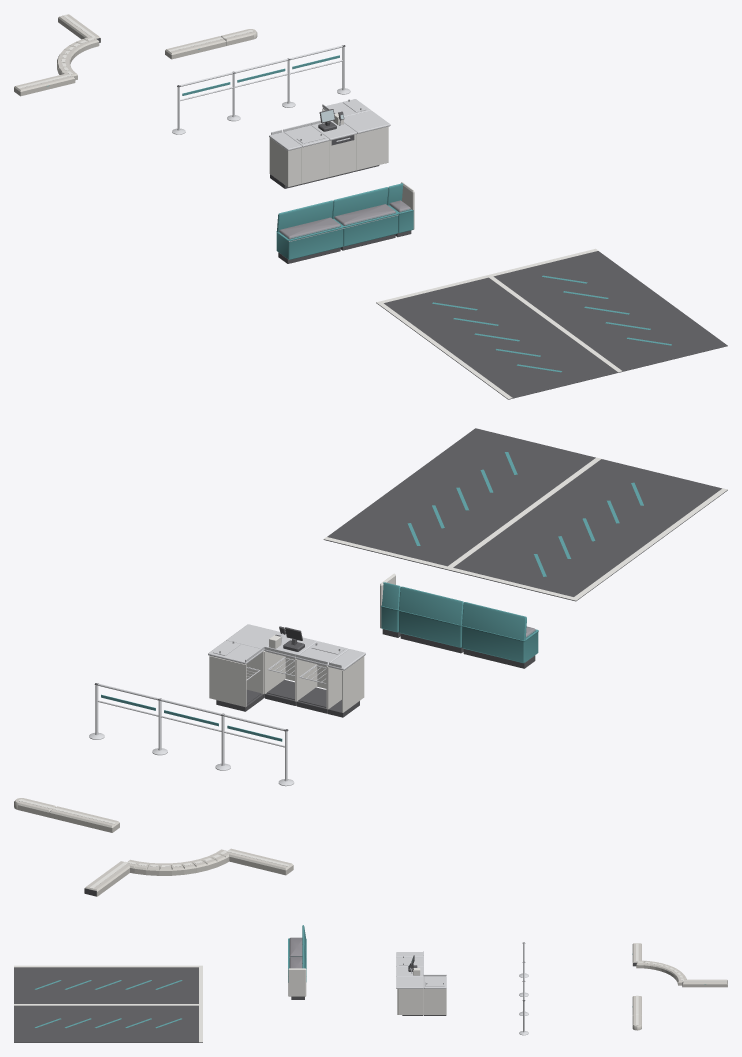
File: fast-food-and-drive-thru-qsr-connector-cases-df04b984__16230.glb
The picture shows the model from 3 angles, top to bottom: view 1: azimuth 30°, elevation 25°; view 2: azimuth 150°, elevation 25°; view 3: azimuth 270°, elevation 25°; orthographic projection. The views are drawn at different scales.
Visible parts, largest first — view 1: 016-car-park-bay-marking/0, 017-car-park-bay-marking/0, 013-moulded-bench-run/1, 014-moulded-bench-run/1, 003-counter-corner/1, 000-counter-end-cap/1, 001-counter-module-600/1, 017-car-park-bay-marking/1, 016-car-park-bay-marking/1, 002-counter-till-position/1, 003-counter-corner/3, 013-moulded-bench-run/2 (+7 smaller); view 2: 016-car-park-bay-marking/0, 017-car-park-bay-marking/0, 013-moulded-bench-run/1, 014-moulded-bench-run/1, 004-counter-module-600/1, 000-counter-end-cap/1, 017-car-park-bay-marking/1, 016-car-park-bay-marking/1, 006-lane-kerb-curve/0, 002-counter-till-position/1, 002-counter-till-position/0, 001-counter-module-600/1 (+7 smaller); view 3: 017-car-park-bay-marking/0, 016-car-park-bay-marking/0, 016-car-park-bay-marking/1, 003-counter-corner/1, 004-counter-module-600/1, 015-moulded-bench-end/2, 017-car-park-bay-marking/1, 006-lane-kerb-curve/0, 003-counter-corner/3, 007-lane-kerb-straight/0, 004-counter-module-600/3, 013-moulded-bench-run/2 (+4 smaller).
Part boxes in pixels (<box>): 016-car-park-bay-marking/0: <box>376,277,617,399</box>; 017-car-park-bay-marking/0: <box>491,251,727,372</box>; 013-moulded-bench-run/1: <box>276,200,343,259</box>; 014-moulded-bench-run/1: <box>332,187,398,246</box>; 003-counter-corner/1: <box>356,126,388,170</box>; 000-counter-end-cap/1: <box>269,138,301,187</box>; 001-counter-module-600/1: <box>301,141,329,183</box>; 017-car-park-bay-marking/1: <box>486,248,622,372</box>; 016-car-park-bay-marking/1: <box>376,275,512,398</box>; 002-counter-till-position/1: <box>329,113,356,176</box>; 003-counter-corner/3: <box>344,110,390,133</box>; 013-moulded-bench-run/2: <box>279,217,340,239</box>; 016-car-park-bay-marking/0: <box>450,459,727,601</box>; 017-car-park-bay-marking/0: <box>323,428,596,570</box>; 013-moulded-bench-run/1: <box>461,602,538,663</box>; 014-moulded-bench-run/1: <box>398,586,463,647</box>; 004-counter-module-600/1: <box>209,651,263,706</box>; 000-counter-end-cap/1: <box>327,656,364,712</box>; 017-car-park-bay-marking/1: <box>324,457,601,569</box>; 016-car-park-bay-marking/1: <box>450,488,727,600</box>; 006-lane-kerb-curve/0: <box>127,849,229,875</box>; 002-counter-till-position/1: <box>264,635,295,701</box>; 002-counter-till-position/0: <box>265,626,304,705</box>; 001-counter-module-600/1: <box>296,659,327,708</box>; 017-car-park-bay-marking/0: <box>14,1005,202,1042</box>; 016-car-park-bay-marking/0: <box>14,967,198,1003</box>; 016-car-park-bay-marking/1: <box>14,965,202,1003</box>; 003-counter-corner/1: <box>397,989,423,1014</box>; 004-counter-module-600/1: <box>424,989,446,1014</box>; 015-moulded-bench-end/2: <box>288,968,306,996</box>; 017-car-park-bay-marking/1: <box>14,1004,202,1042</box>; 006-lane-kerb-curve/0: <box>636,960,686,985</box>; 003-counter-corner/3: <box>396,976,423,988</box>; 007-lane-kerb-straight/0: <box>682,979,727,987</box>; 004-counter-module-600/3: <box>424,974,446,988</box>; 013-moulded-bench-run/2: <box>289,937,302,956</box>.
Bounding box in the file's own units: 6 × 1.26 × 18.9.
